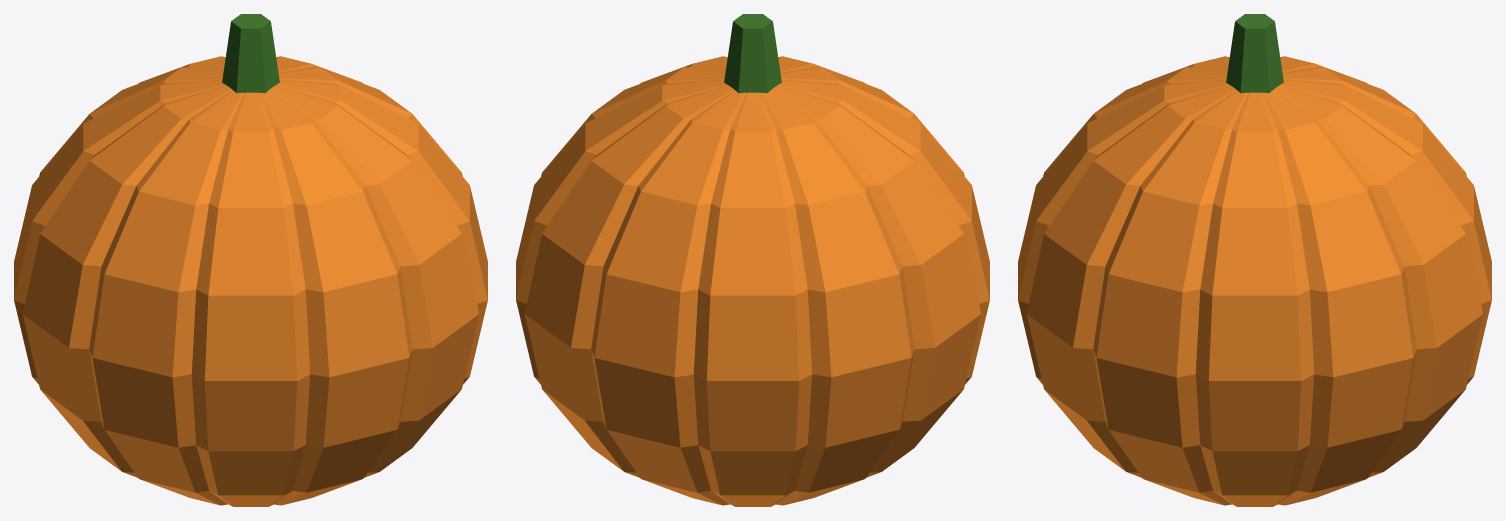
Rendered from giant_pumpkin.glb.
The picture shows the model from 3 angles, left to right: view 1: azimuth 30°, elevation 25°; view 2: azimuth 150°, elevation 25°; view 3: azimuth 270°, elevation 25°; orthographic projection.
Parts seen in each view (by area): view 1: rib_pumpkin_orange, stalk_pumpkin_stalk; view 2: rib_pumpkin_orange, stalk_pumpkin_stalk; view 3: rib_pumpkin_orange, stalk_pumpkin_stalk.
Boxes of the visible parts, x1,y1,x2,y2 form: rib_pumpkin_orange: (14, 56, 487, 506); stalk_pumpkin_stalk: (222, 14, 279, 93); rib_pumpkin_orange: (516, 56, 989, 506); stalk_pumpkin_stalk: (724, 14, 781, 93); rib_pumpkin_orange: (1018, 56, 1491, 506); stalk_pumpkin_stalk: (1226, 14, 1283, 93).
Size of the model in its own units: 0.9511 by 1.02 by 0.9511.
